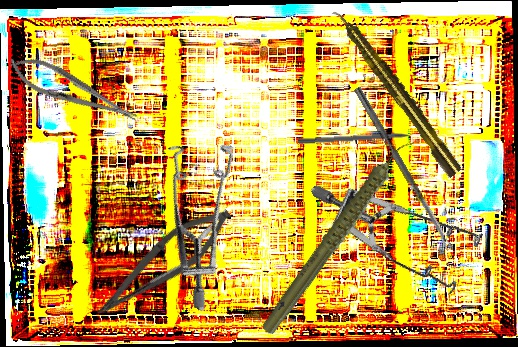Handpiece: (227, 135, 452, 339), (329, 3, 464, 180)
Micro Scissor: (88, 193, 240, 334)
Needle Holder: (3, 47, 143, 134)
Pusher: (297, 131, 428, 146)
Speculum: (309, 124, 501, 329), (103, 117, 289, 313)
Surgical Spoon: (353, 86, 453, 252)
